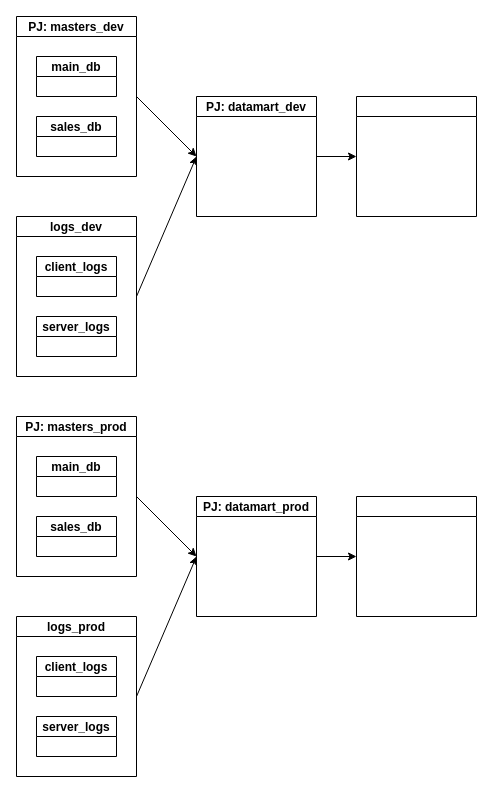
The diagram is 493 pixels wide and 793 high, and some of its shapes have lost their labels. Here are the shapes that lost their labels. From the top down, the centre of each, then its label:
At point (416, 156): "PJ: reporets_dev".
At point (416, 556): "PJ: reporets_prod".
